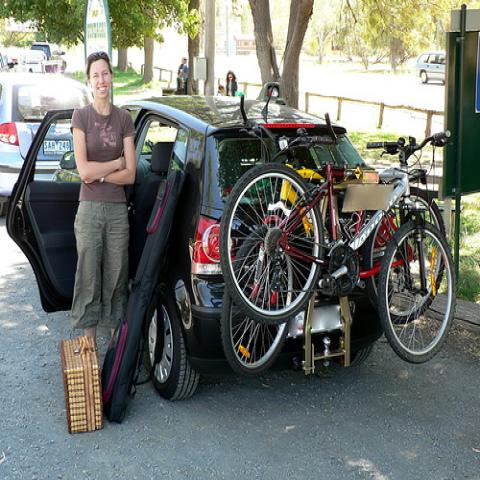car: (6, 82, 384, 402), (0, 68, 93, 214), (29, 42, 69, 72), (414, 53, 446, 86)
